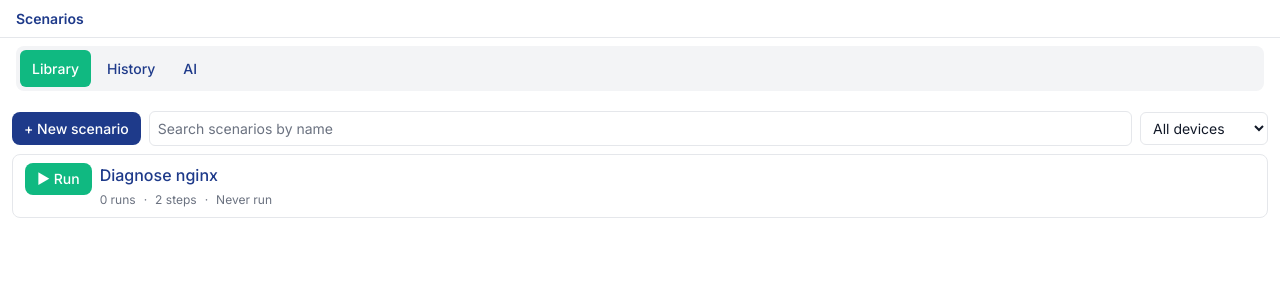
Scenario: ScenariosPanel — segmented control & sessionStorage › renders SegmentedControl in history mode
Expected: the element with test id "scenarios-panel-segment" is shown, [16,46,1264,91]
What coordinates should you click on to do the following:
click the tab with test id "scenarios-panel-segment-history"
I would click on:
 (131, 68)
Its box is [95,50,167,87].
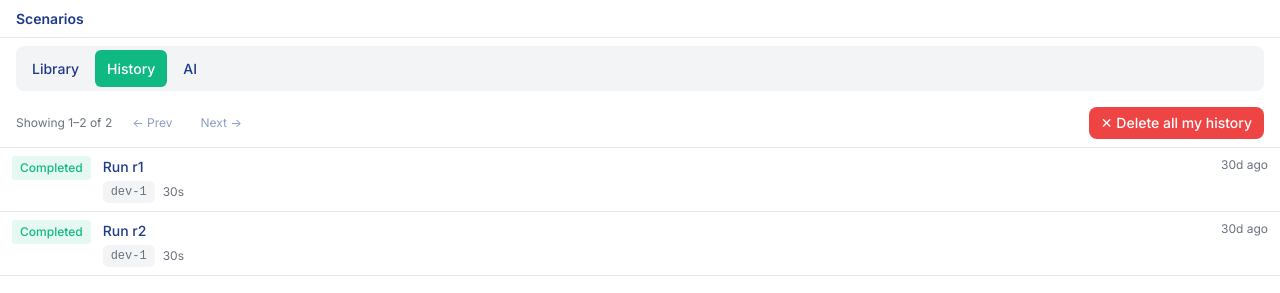
Expected: the element with test id "scenarios-panel-segment" is shown, [16,46,1264,91]
Now the element with test id "scenarios-history" is shown
